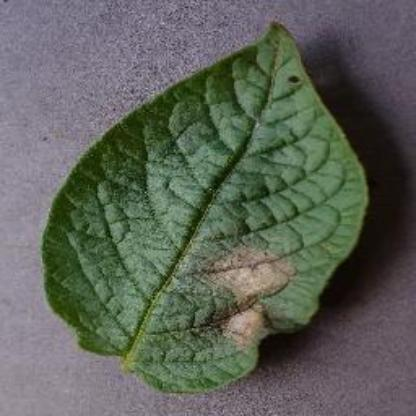Late-Blight: (34, 19, 404, 400)
